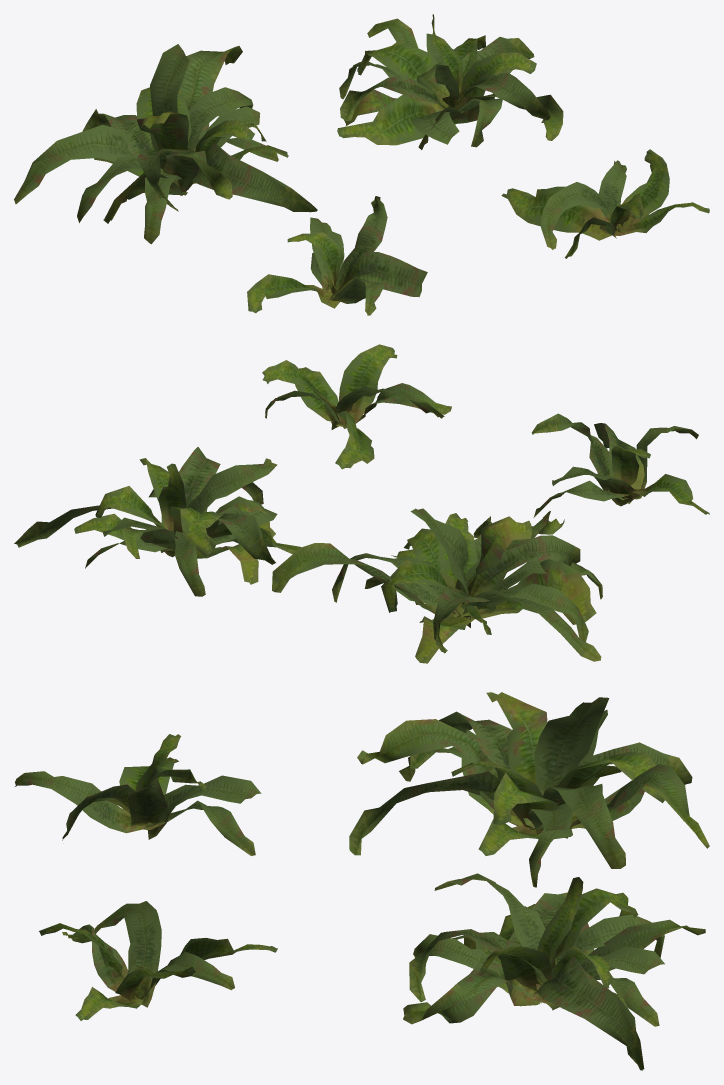
Rendered from fern_02.glb.
3 views of the same model, one above another, from view 1: azimuth 30°, elevation 25°; view 2: azimuth 150°, elevation 25°; view 3: azimuth 270°, elevation 25° (orthographic). The views are drawn at different scales.
Visible parts, largest first — view 1: fern_02_b; view 2: fern_02_b; view 3: fern_02_b.
Boxes of the visible parts, <box> form: fern_02_b: <box>14,14,709,315</box>; fern_02_b: <box>14,344,709,663</box>; fern_02_b: <box>15,692,709,1070</box>.
Bounding box in the file's own units: 1.97 × 0.4277 × 1.72.
Materials: 1 (1 with a texture image).
